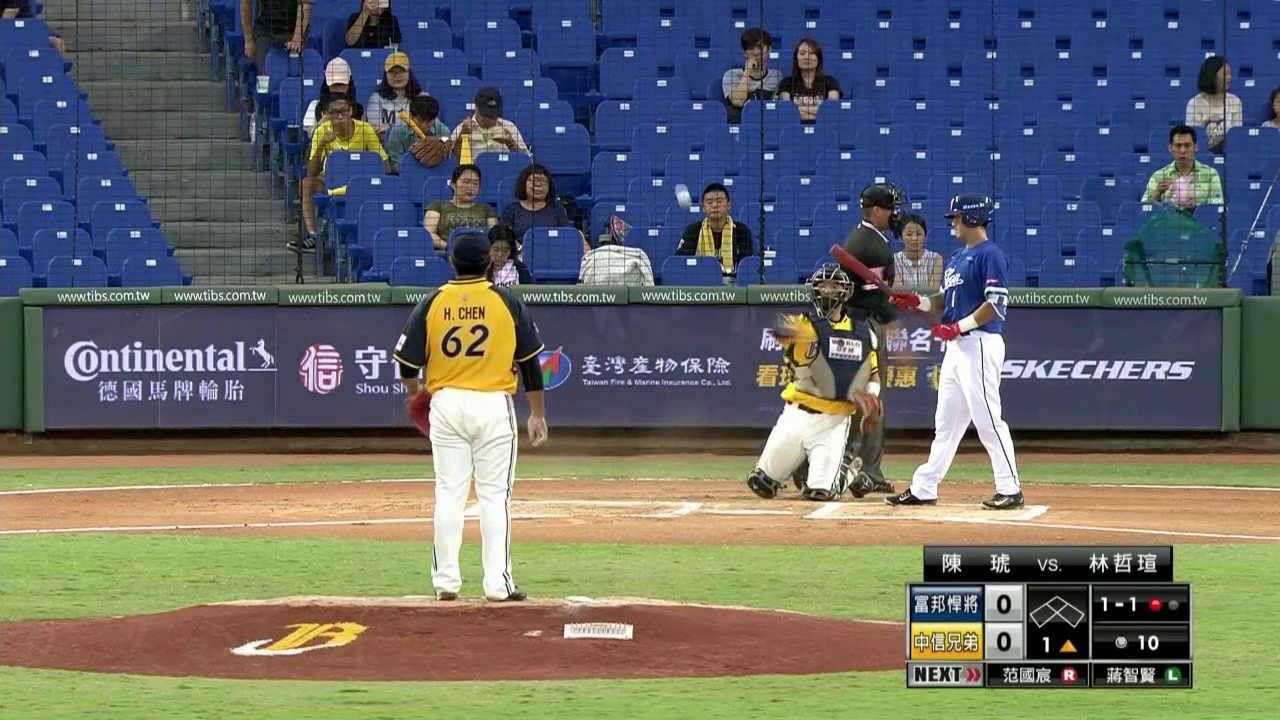ball: (678, 184, 687, 205)
base: (1027, 594, 1087, 628)
bat: (836, 239, 944, 335)
out: (1144, 593, 1182, 615)
score1: (988, 591, 1016, 617)
score2: (992, 628, 1019, 655)
session: (1028, 627, 1084, 658)
strikeball: (1095, 594, 1141, 619)
total: (1111, 630, 1165, 656)
